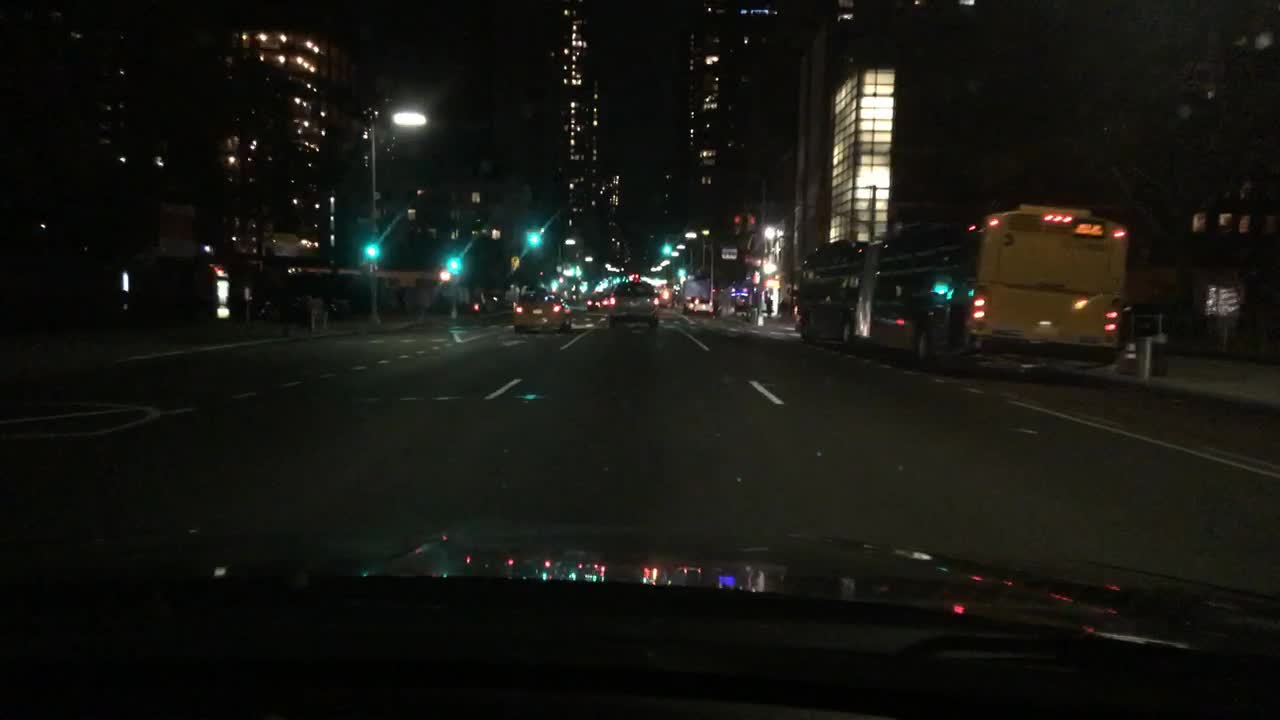bus: (792, 204, 1127, 372)
car: (513, 290, 574, 332), (611, 281, 659, 327), (687, 295, 713, 317), (587, 293, 610, 312), (660, 286, 673, 309)
traffic light: (526, 231, 541, 247), (365, 241, 379, 258), (448, 257, 460, 273), (661, 240, 671, 256)
traffic sign: (721, 247, 739, 259)
